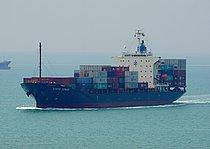Ship: (15, 26, 191, 110)
